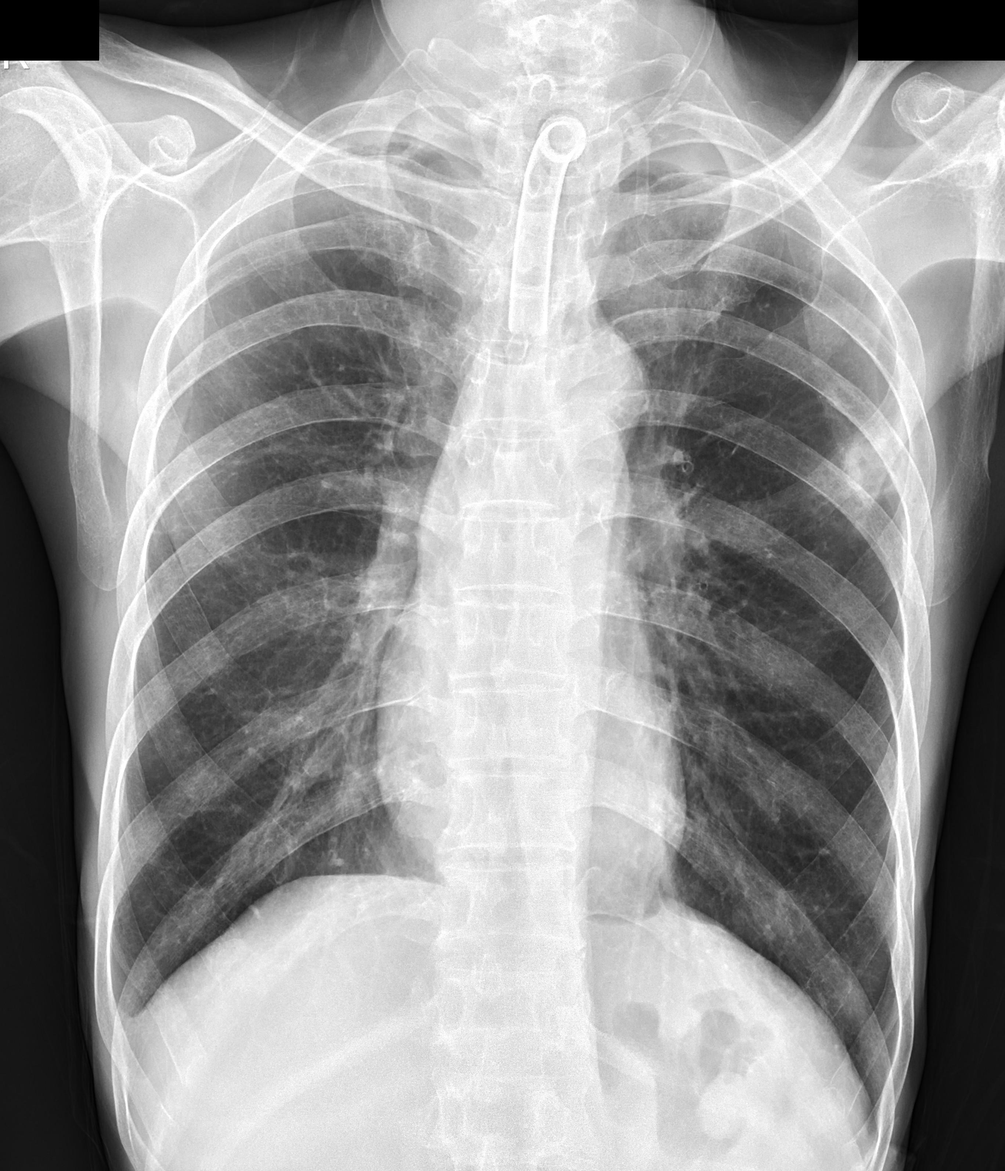Pleural thickening: (630, 121, 803, 194), (306, 128, 465, 163), (100, 979, 161, 1038)
Pulmonary fibrosis: (836, 434, 909, 503)
